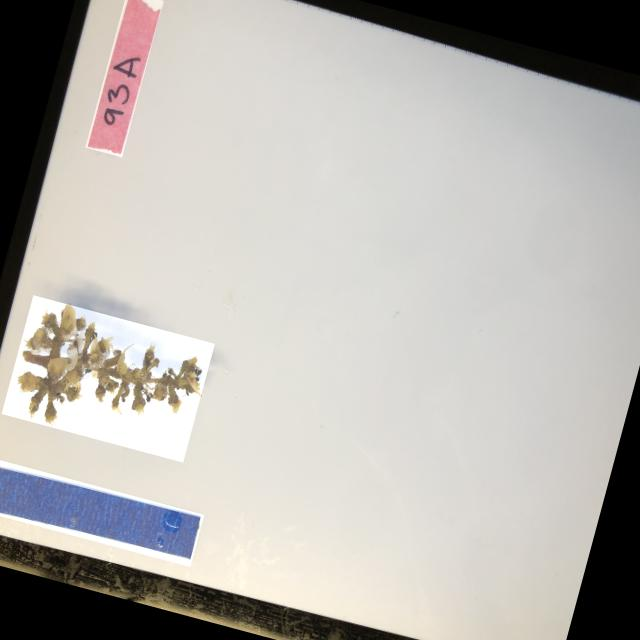index: (85, 0, 164, 156)
measure_label: (0, 455, 204, 565)
rachis_cluster: (2, 294, 215, 461)
